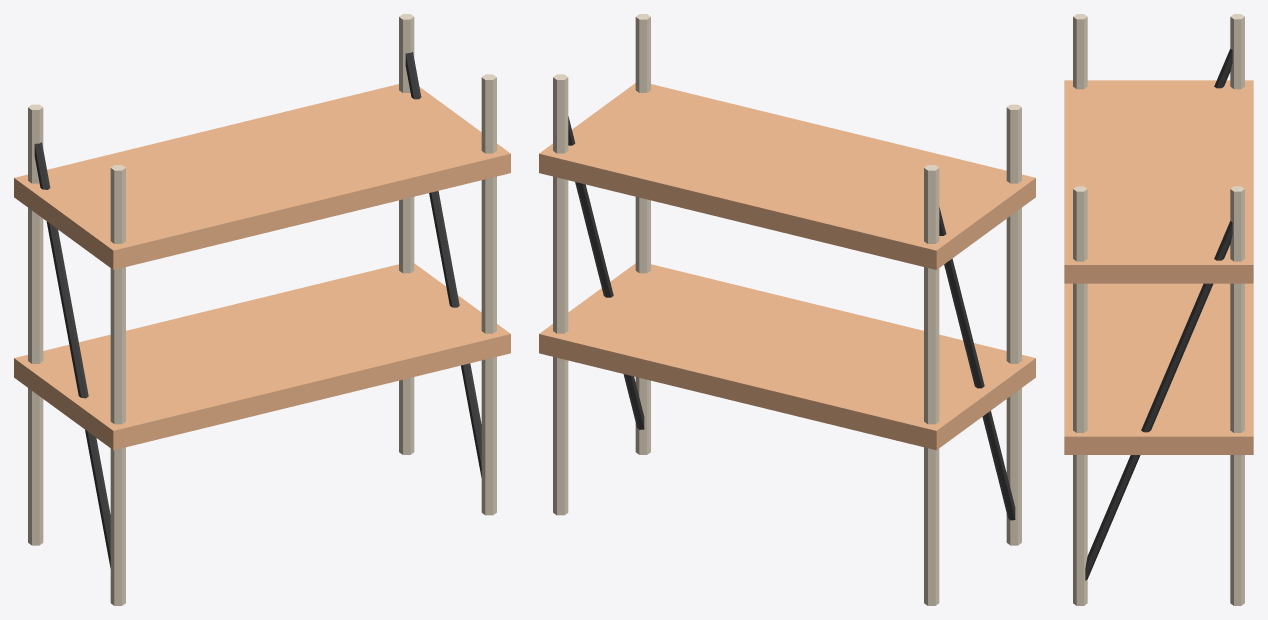
The picture shows the model from 3 angles, left to right: view 1: azimuth 30°, elevation 25°; view 2: azimuth 150°, elevation 25°; view 3: azimuth 270°, elevation 25°; orthographic projection. The views are drawn at different scales.
Visible parts, largest first — view 1: Platform.001, Platform, Upright, Upright.002, Upright.001, Cross brace, Upright.003, Cross brace.001; view 2: Platform.001, Platform, Upright.001, Upright.003, Upright, Upright.002, Cross brace, Cross brace.001; view 3: Platform.001, Platform, Upright.002, Upright.003, Cross brace.001, Upright, Upright.001, Cross brace.
Part boxes in pixels (bbox=[...]): Platform.001: bbox=[14, 84, 510, 269]; Platform: bbox=[14, 263, 510, 450]; Upright: bbox=[110, 165, 125, 605]; Upright.002: bbox=[481, 74, 496, 515]; Upright.001: bbox=[28, 104, 43, 545]; Cross brace: bbox=[34, 142, 110, 567]; Upright.003: bbox=[399, 14, 414, 454]; Cross brace.001: bbox=[405, 52, 481, 477]; Platform.001: bbox=[539, 83, 1035, 269]; Platform: bbox=[539, 263, 1035, 450]; Upright.001: bbox=[924, 165, 939, 605]; Upright.003: bbox=[553, 74, 568, 515]; Upright: bbox=[1006, 104, 1021, 545]; Upright.002: bbox=[635, 14, 650, 454]; Cross brace: bbox=[939, 207, 1015, 520]; Cross brace.001: bbox=[568, 116, 644, 429]; Platform.001: bbox=[1064, 80, 1253, 283]; Platform: bbox=[1064, 283, 1253, 454]; Upright.002: bbox=[1073, 186, 1087, 605]; Upright.003: bbox=[1230, 186, 1244, 605]; Cross brace.001: bbox=[1085, 221, 1232, 580]; Upright: bbox=[1073, 14, 1087, 89]; Upright.001: bbox=[1230, 14, 1244, 89]; Cross brace: bbox=[1214, 49, 1232, 88].
Bounding box in the file's own units: 1.5 × 1.57 × 0.65.
Materials: 1 (1 with a texture image).
